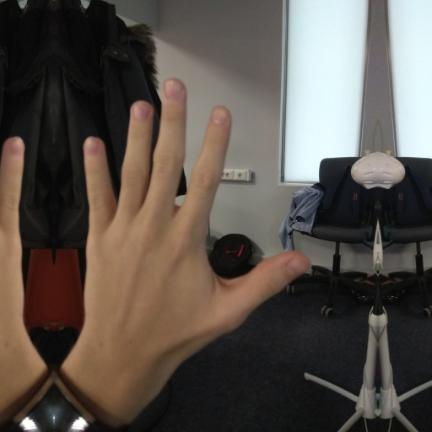Nail: (287, 259, 308, 277), (165, 81, 182, 100), (134, 104, 150, 120), (213, 108, 228, 125), (85, 139, 99, 156), (9, 139, 23, 156)
